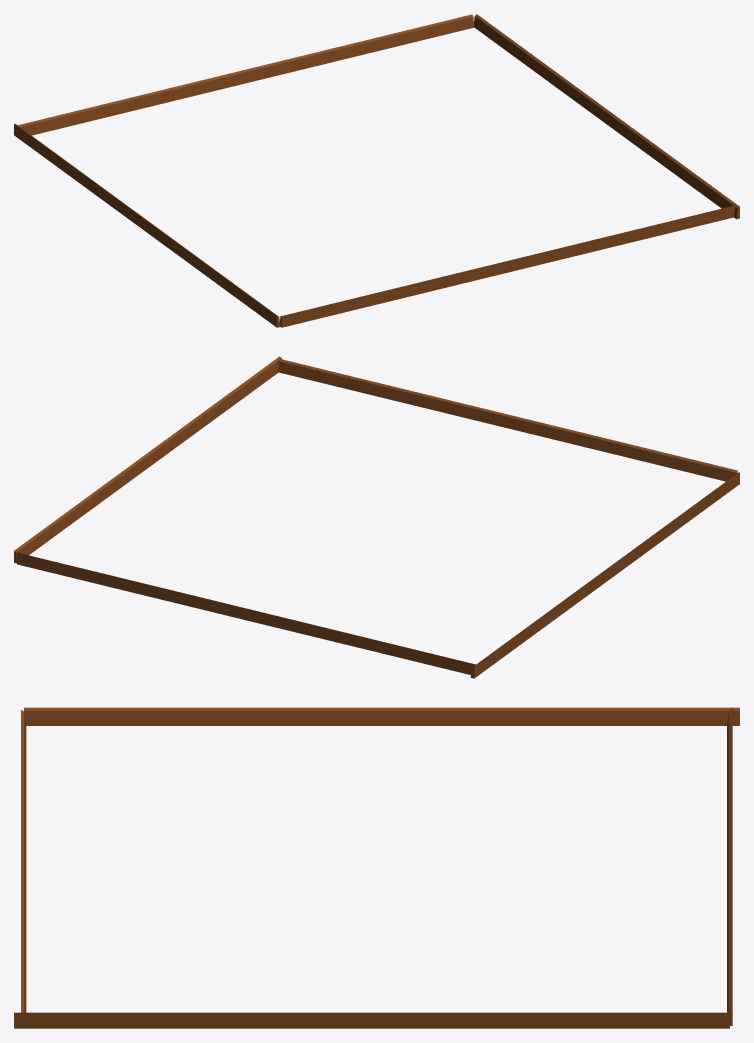
The model's file is RoomWoodTrim.fbx.
3 views of the same model, one above another, from view 1: azimuth 30°, elevation 25°; view 2: azimuth 150°, elevation 25°; view 3: azimuth 270°, elevation 25° (orthographic). The views are drawn at different scales.
Parts seen in each view (by area): view 1: Cube.029, Cube.027, Cube.028, Cube.030; view 2: Cube.027, Cube.029, Cube.028, Cube.030; view 3: Cube.030, Cube.028, Cube.029, Cube.027.
Part boxes in pixels (x1=…): Cube.029: x1=16, y1=14, x2=474, y2=138; Cube.027: x1=280, y1=205, x2=736, y2=327; Cube.028: x1=474, y1=14, x2=739, y2=219; Cube.030: x1=14, y1=123, x2=280, y2=327; Cube.027: x1=277, y1=358, x2=737, y2=481; Cube.029: x1=17, y1=552, x2=479, y2=676; Cube.028: x1=14, y1=356, x2=281, y2=563; Cube.030: x1=470, y1=472, x2=739, y2=678; Cube.030: x1=24, y1=707, x2=739, y2=725; Cube.028: x1=14, y1=1012, x2=729, y2=1028; Cube.029: x1=727, y1=707, x2=732, y2=1025; Cube.027: x1=21, y1=710, x2=26, y2=1012.
Size of the model in its own units: 1387 by 34.03 by 1395.
